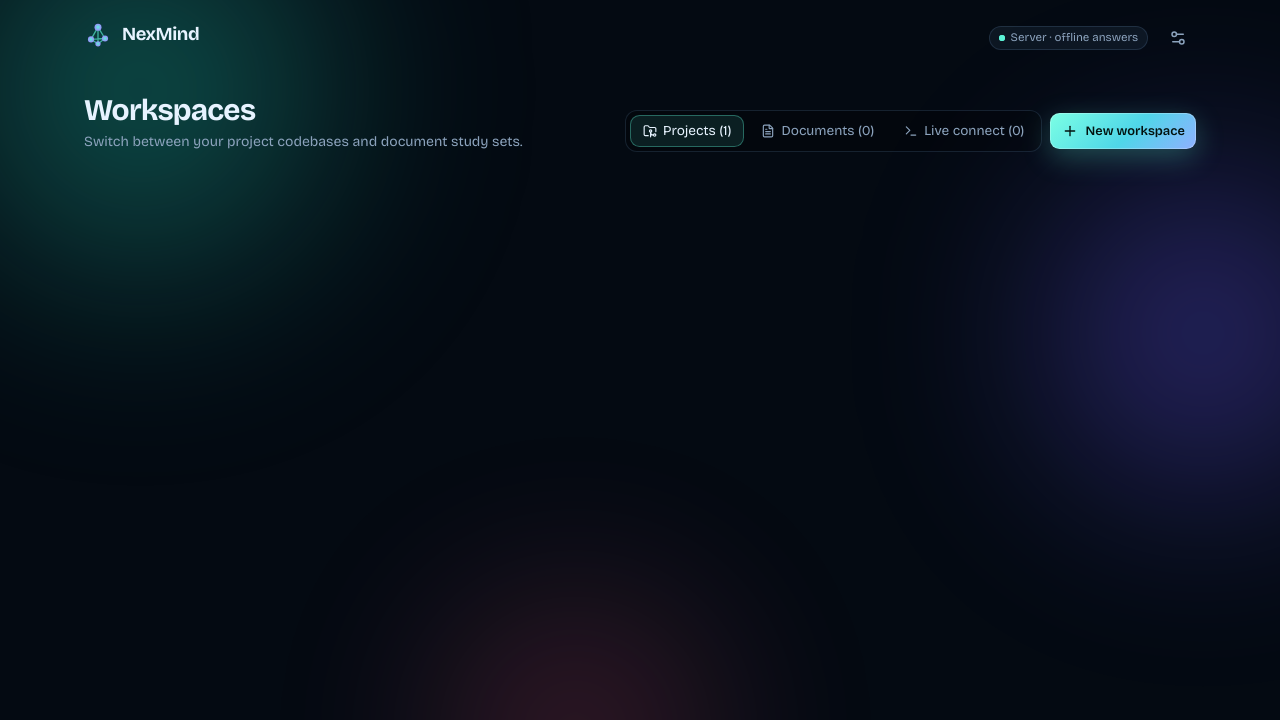
Scenario: Mode selection and step skipping UX in Hub and NewWorkspaceDialog › (b) top-right "+ New workspace" (render the Hub with one existing workspace) opens step 1 showing exactly three options
The image size is (1280, 720).
// Click top-right "+ New workspace"
Step 1. Click the button "New workspace" → point(1123, 131), box [1050,113,1196,149]
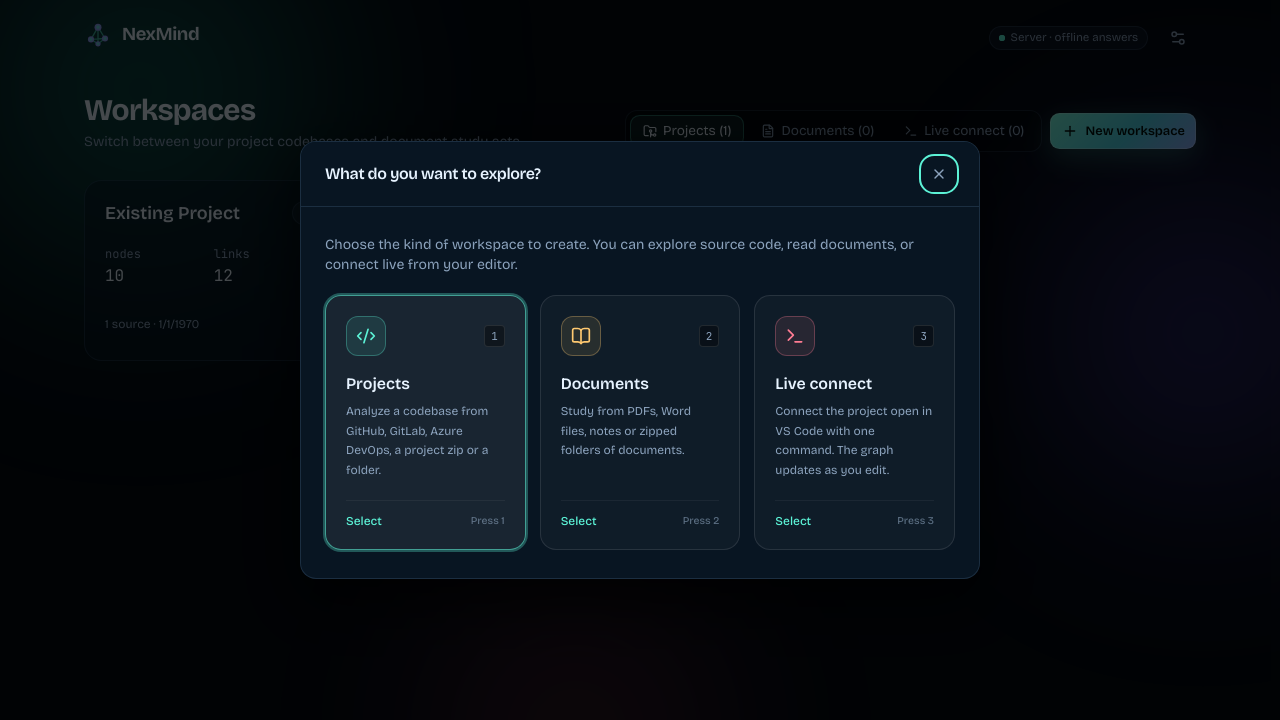
expect the heading "What do you want to explore?" is shown: met, box [325,162,541,186]
expect the heading "Projects" is shown: met, box [346,374,410,393]
expect the heading "Documents" is shown: met, box [561,374,649,393]
